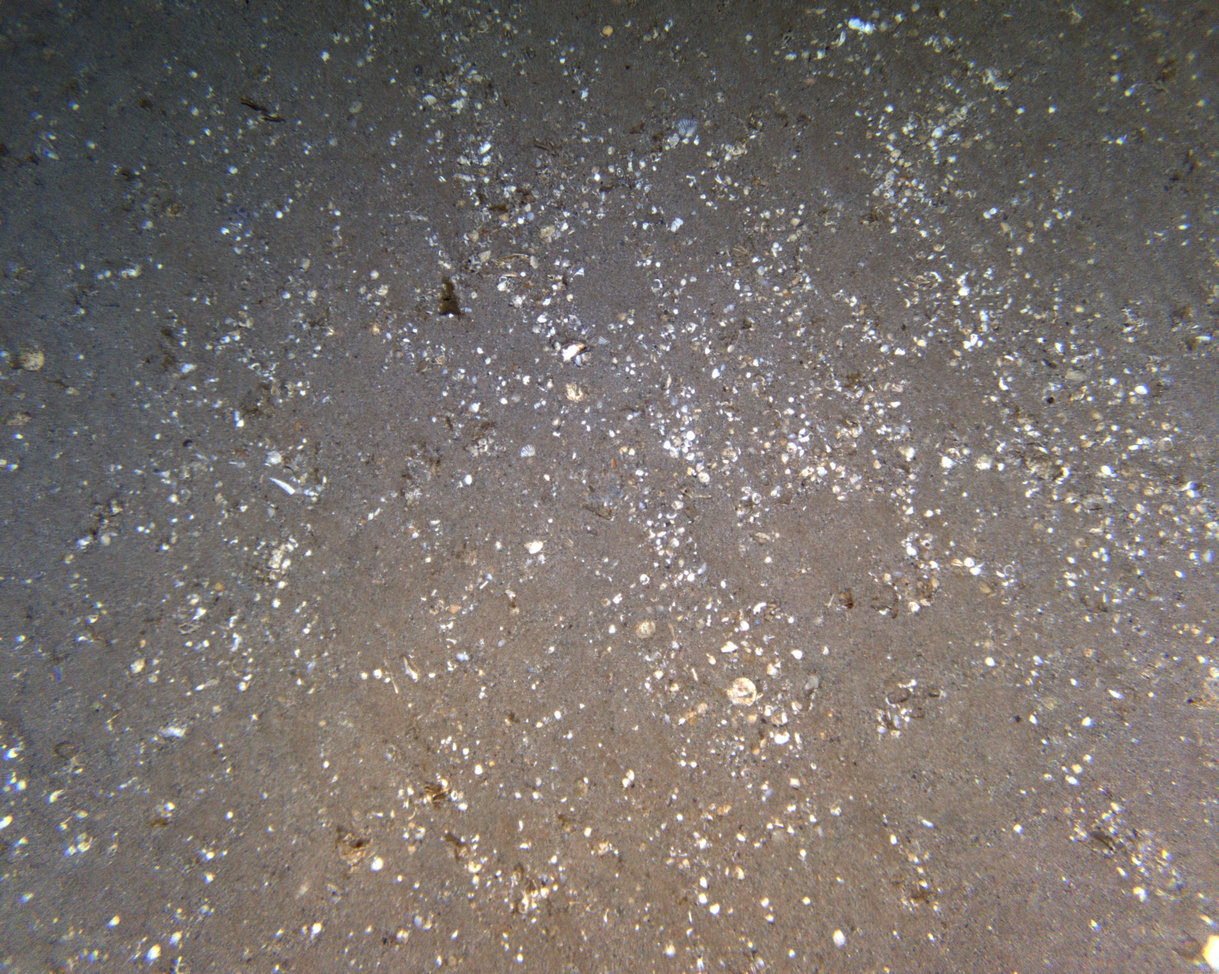Brachionichthyidae: (237, 92, 291, 124)
